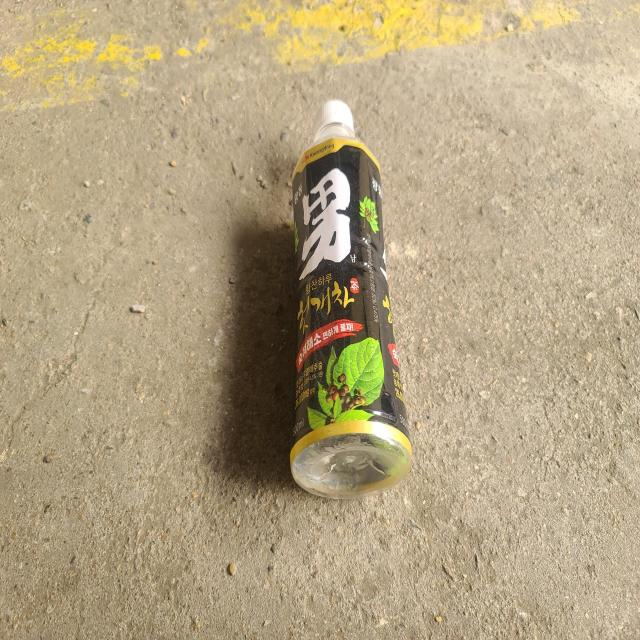plastic: (290, 99, 412, 499)
